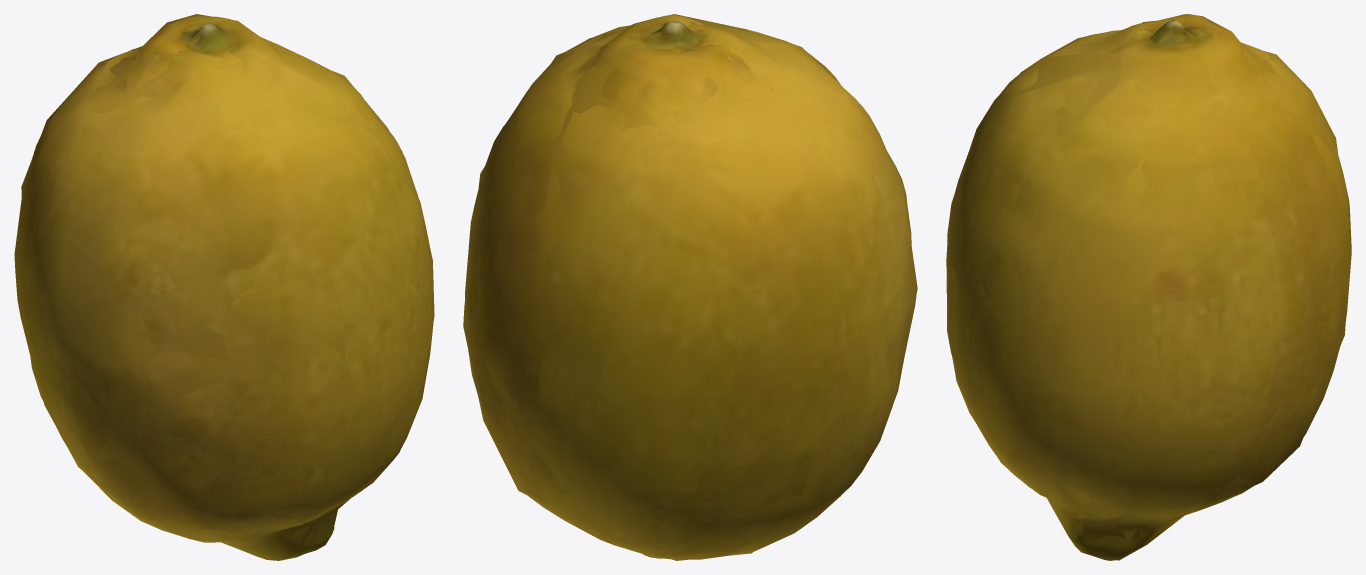
Rendered from imp-lemons.glb.
The picture shows the model from 3 angles, left to right: view 1: azimuth 30°, elevation 25°; view 2: azimuth 150°, elevation 25°; view 3: azimuth 270°, elevation 25°; orthographic projection. The views are drawn at different scales.
Visible parts, largest first — view 1: lemon (×3); view 2: lemon (×3); view 3: lemon (×3).
Boxes of the visible parts, x1,y1,x2,y2 form: lemon (×3): (14, 14, 434, 560); lemon (×3): (463, 14, 917, 560); lemon (×3): (946, 14, 1351, 560).
Bounding box in the file's own units: 0.0504 × 0.07 × 0.0501.
1 material, 1 textured.
